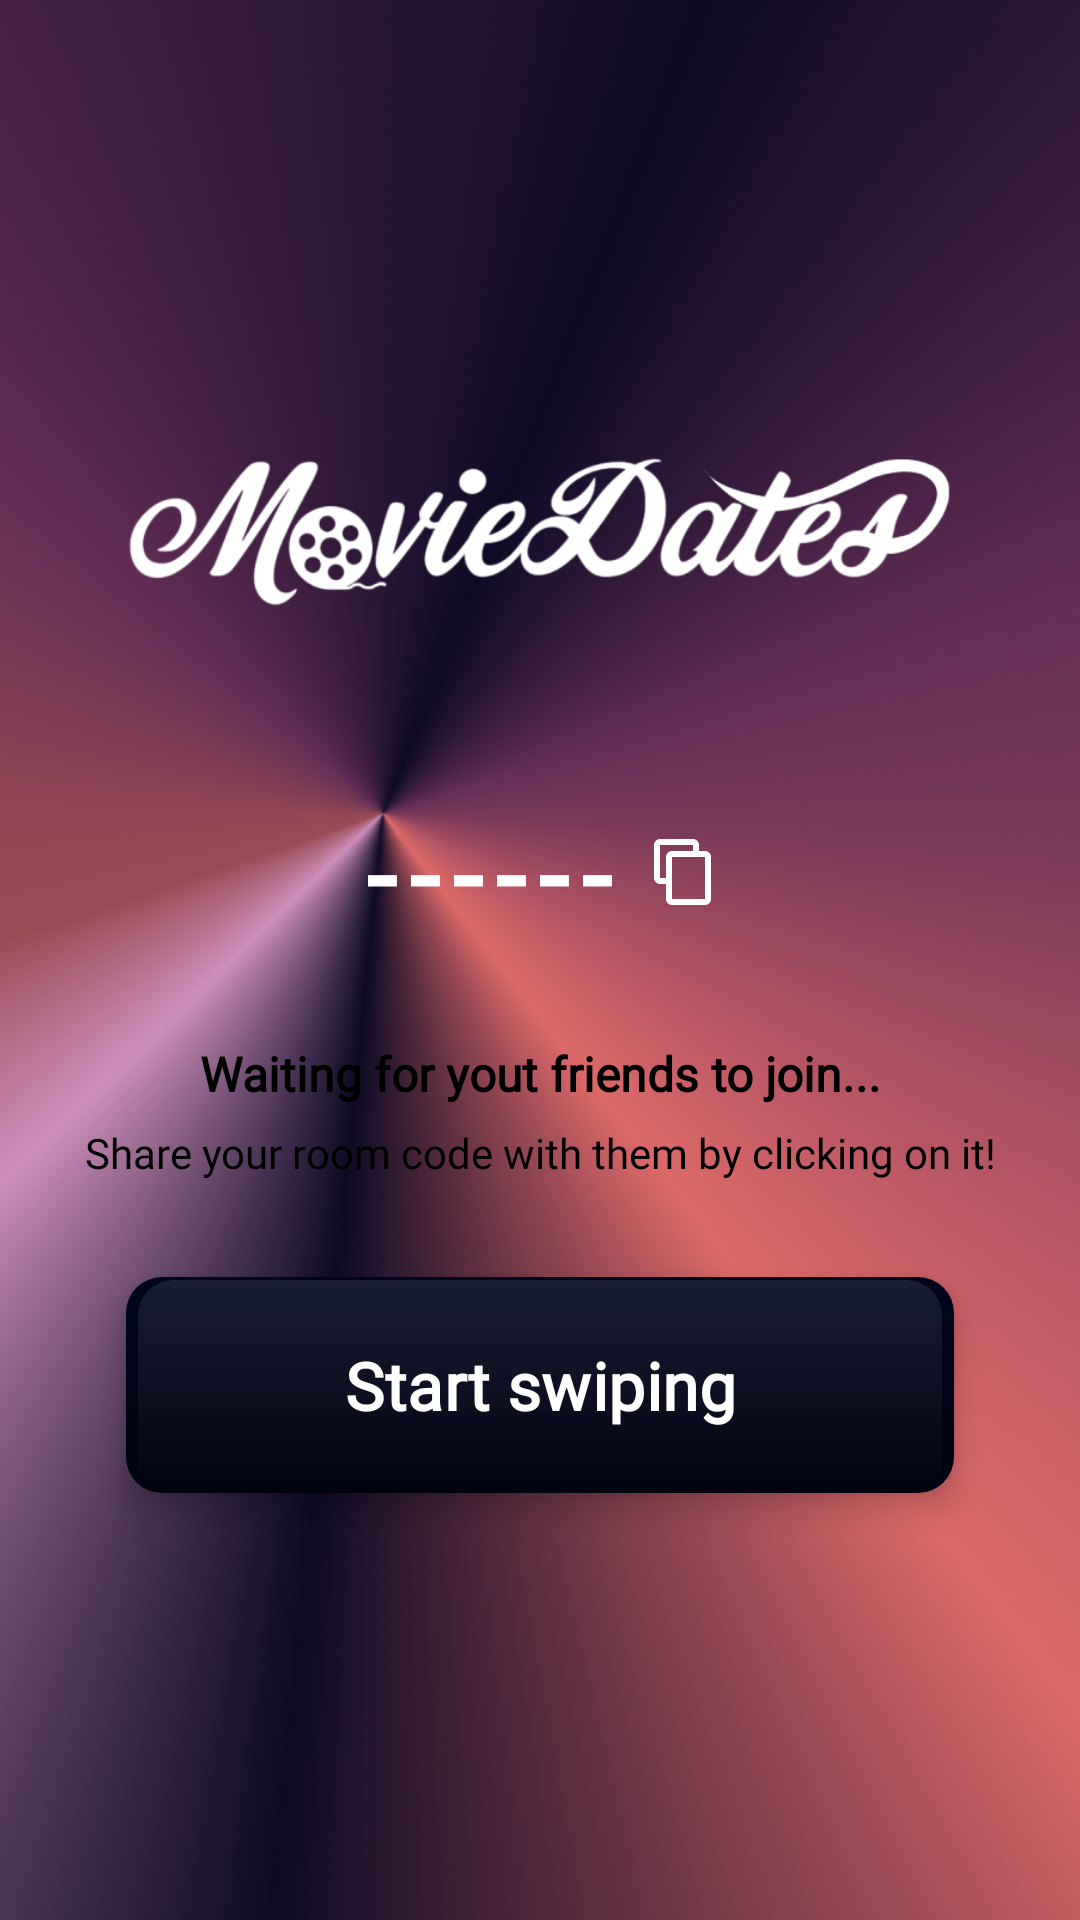

Where to tap for icons on this 1080x1920 app screen, as [x,y]:
Copy room code: [684,873]
